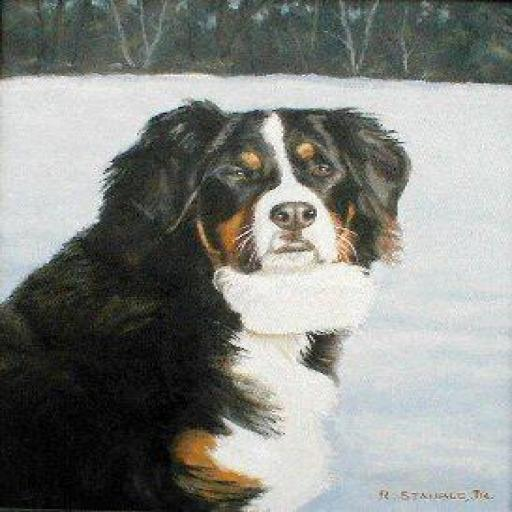dog_face: (118, 104, 420, 284)
